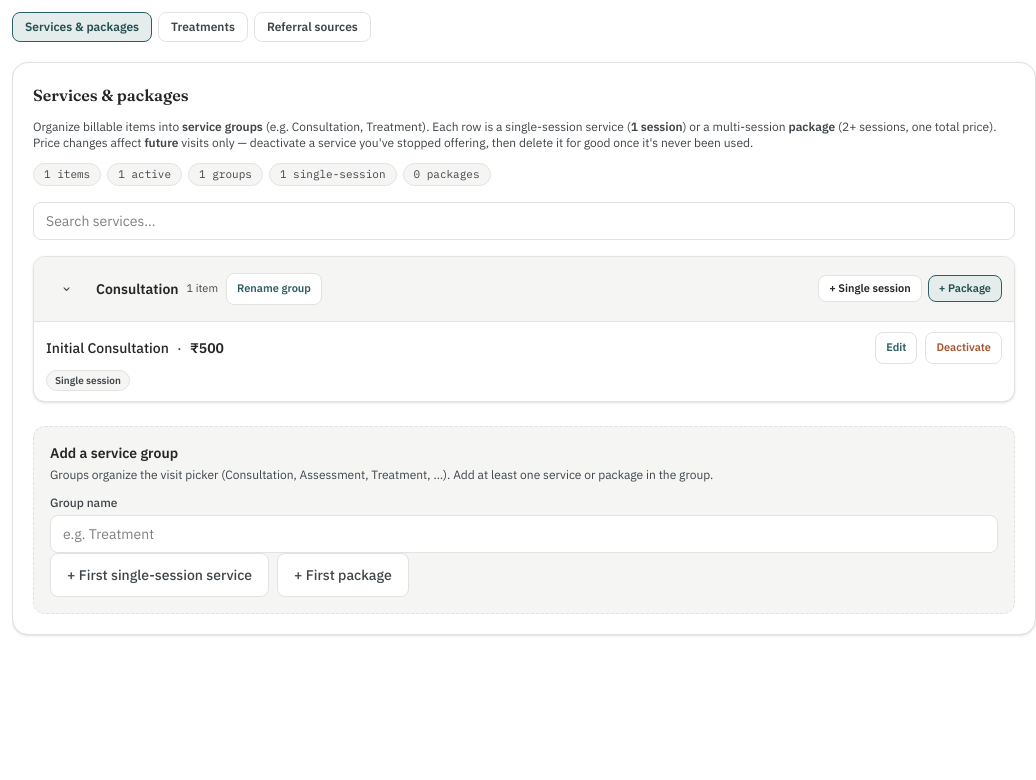
Test case: ServiceCatalog — search › shows a "no matches" message distinct from the empty-catalog message
This screenshot has width=1036, height=780.
Expected: the text "Initial Consultation" is shown, [46, 338, 169, 358]
Type "nonexistent" into the search field with placeholder "Search services…" at (524,220), box [33, 202, 1015, 240]
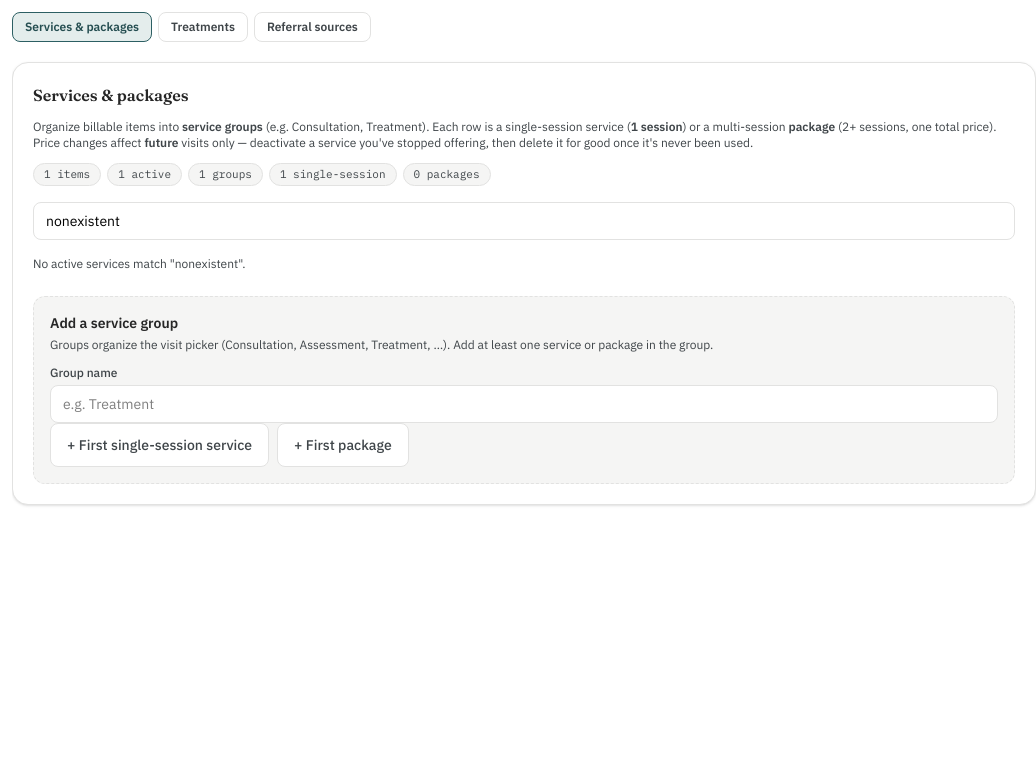
Expected: the text "No active services match \"nonexistent\"." is shown, [33, 256, 245, 270]
